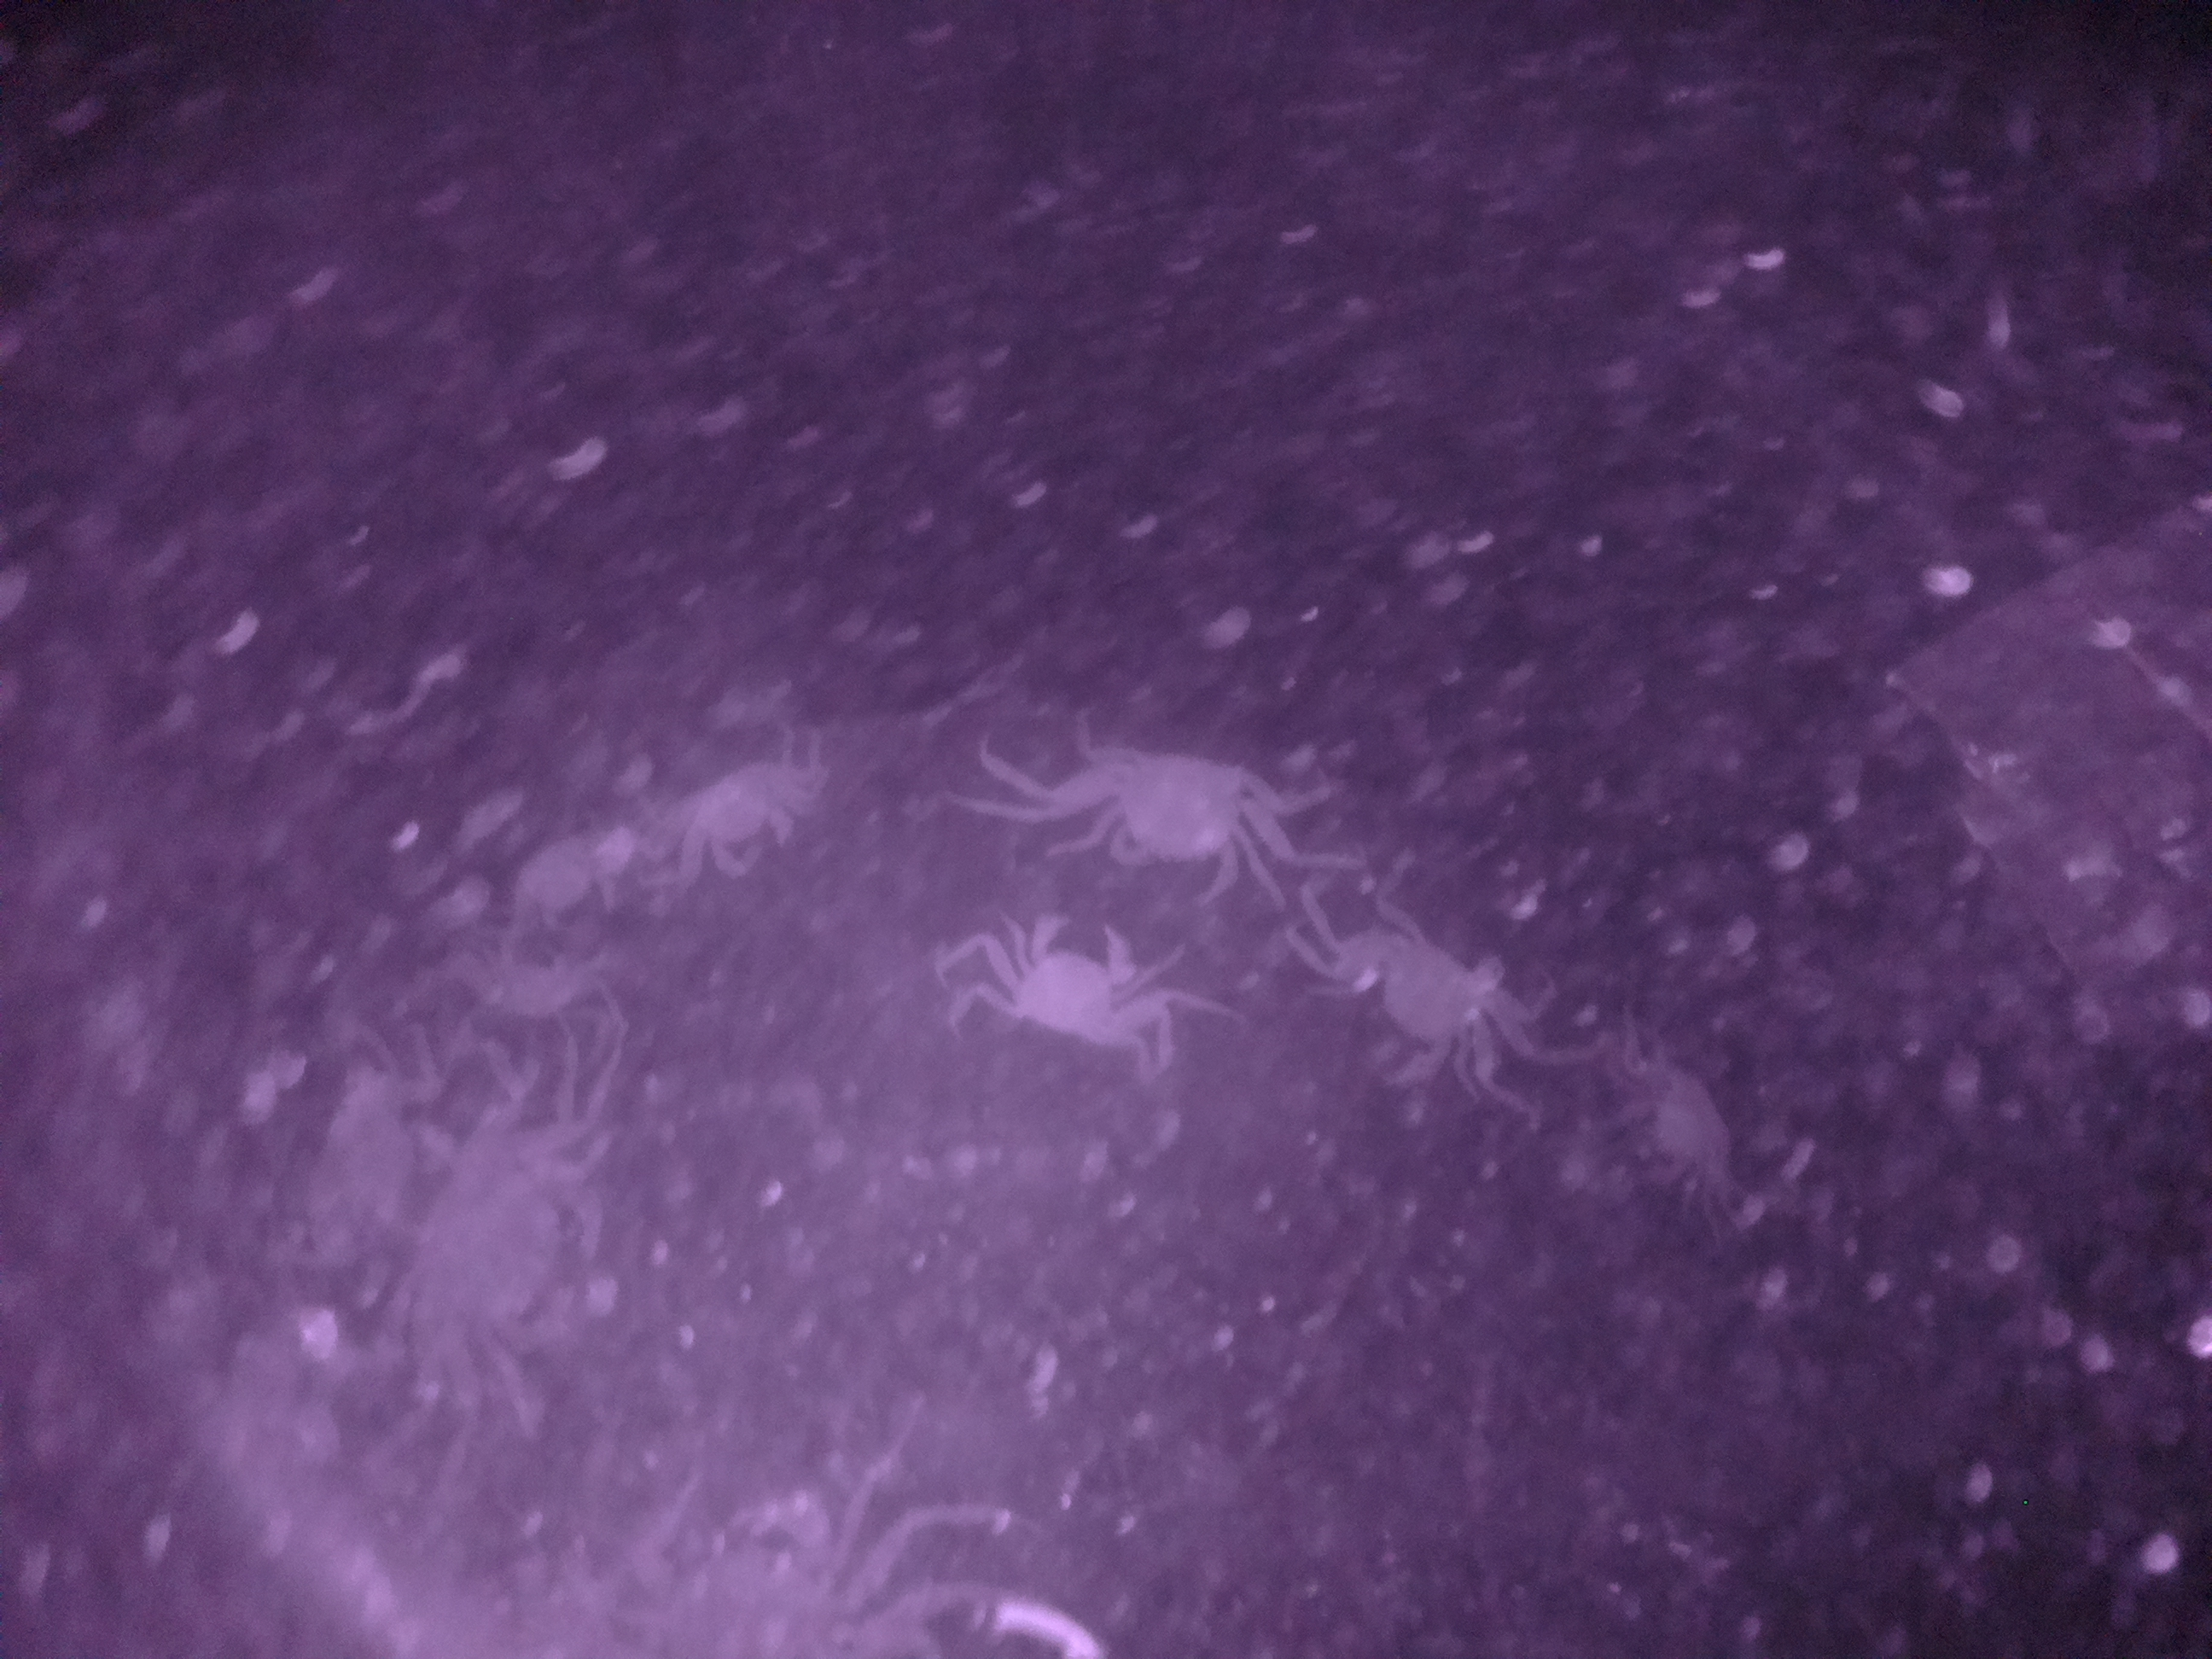Crab: (1071, 718, 1275, 913), (984, 911, 1153, 1046)
